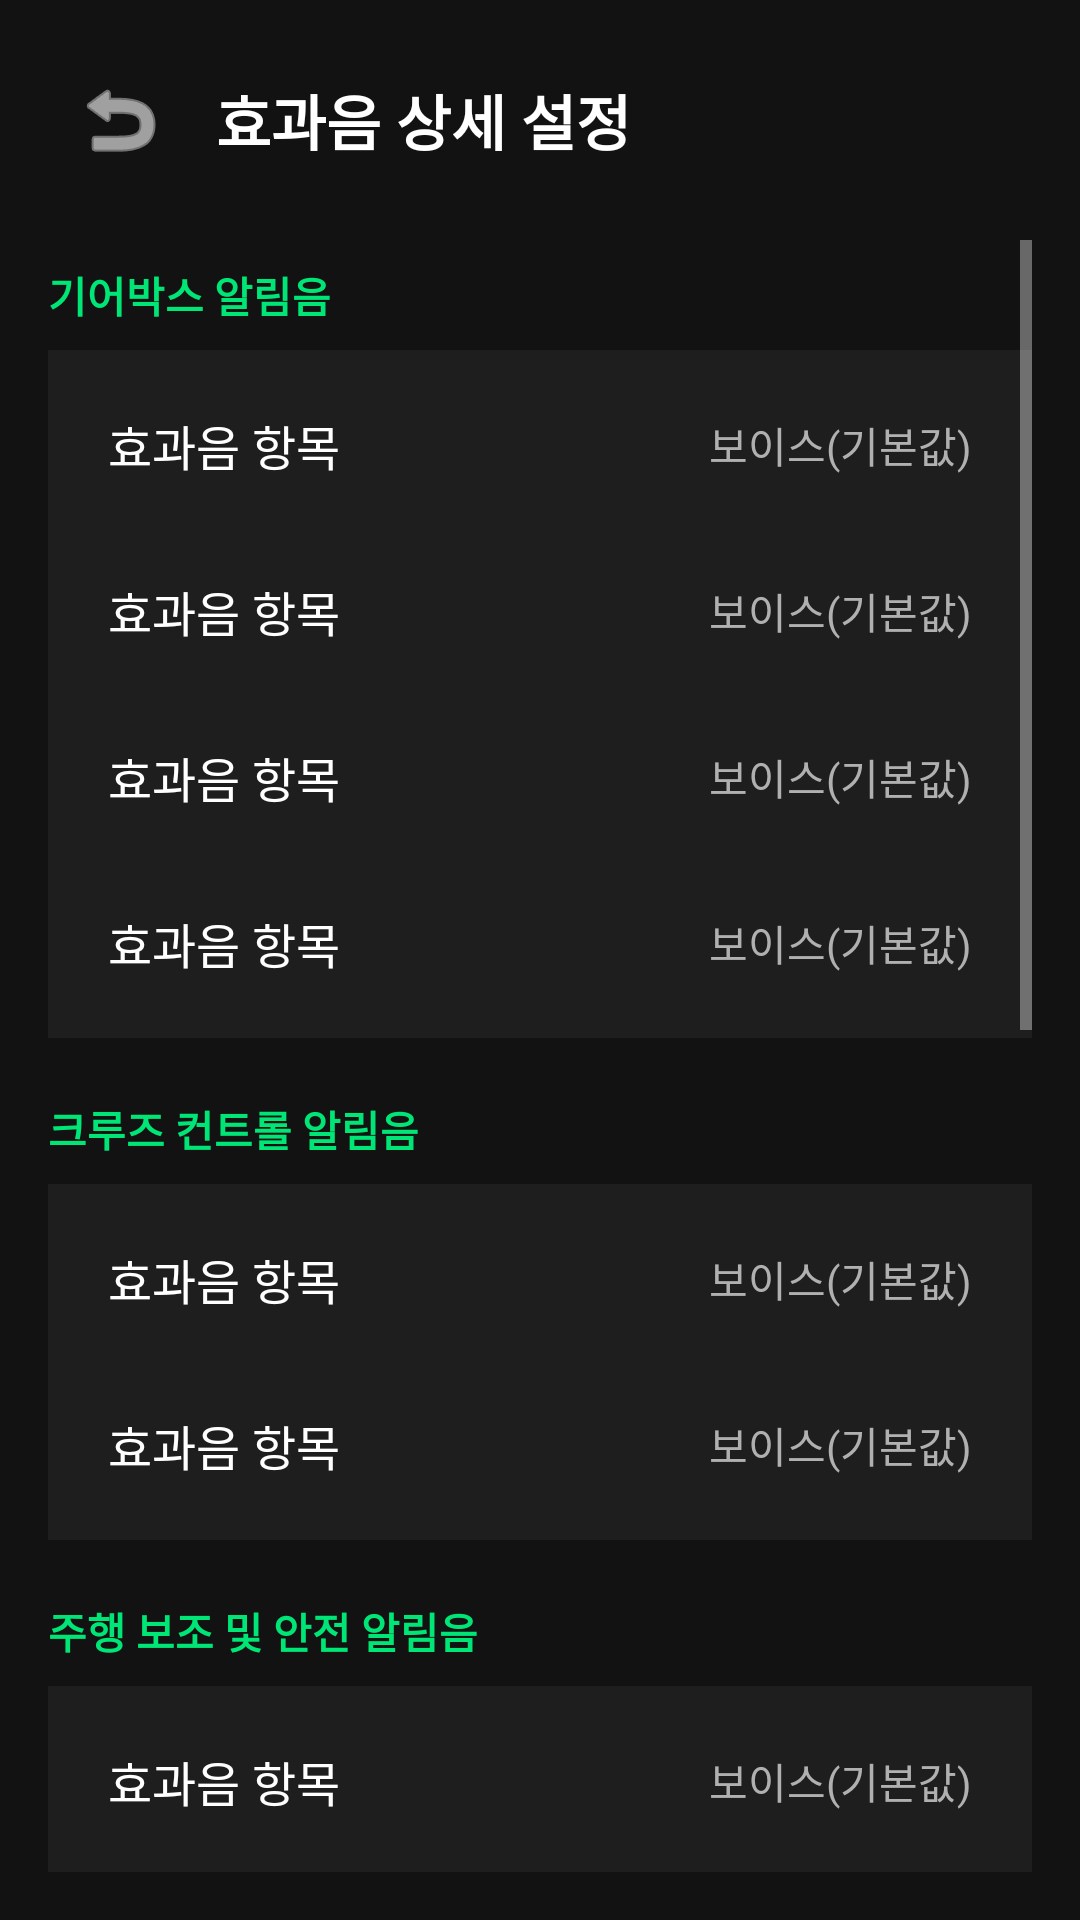

Screen size 1080×1920. Icon name, then its box in pixels as (x1,y1,x2,y2):
뒤로가기: (87,89,156,152)
